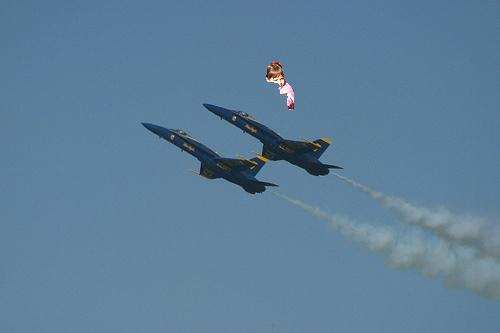tampered: (266, 62, 294, 110)
